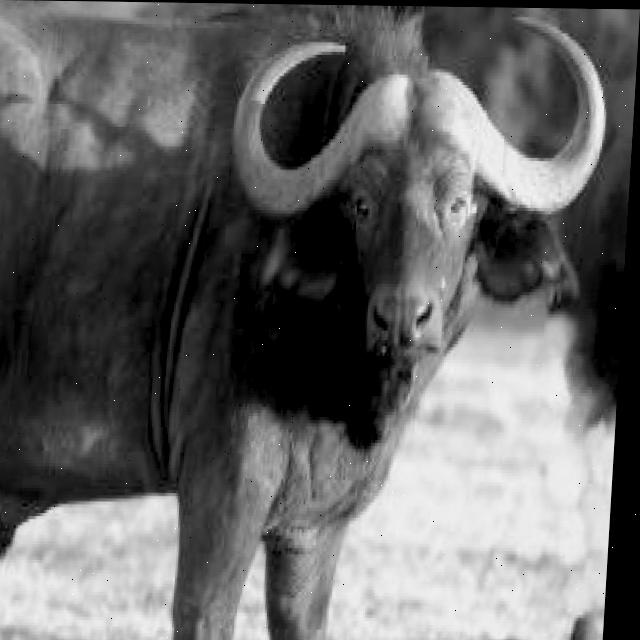Buffalo: (0, 9, 614, 640)
